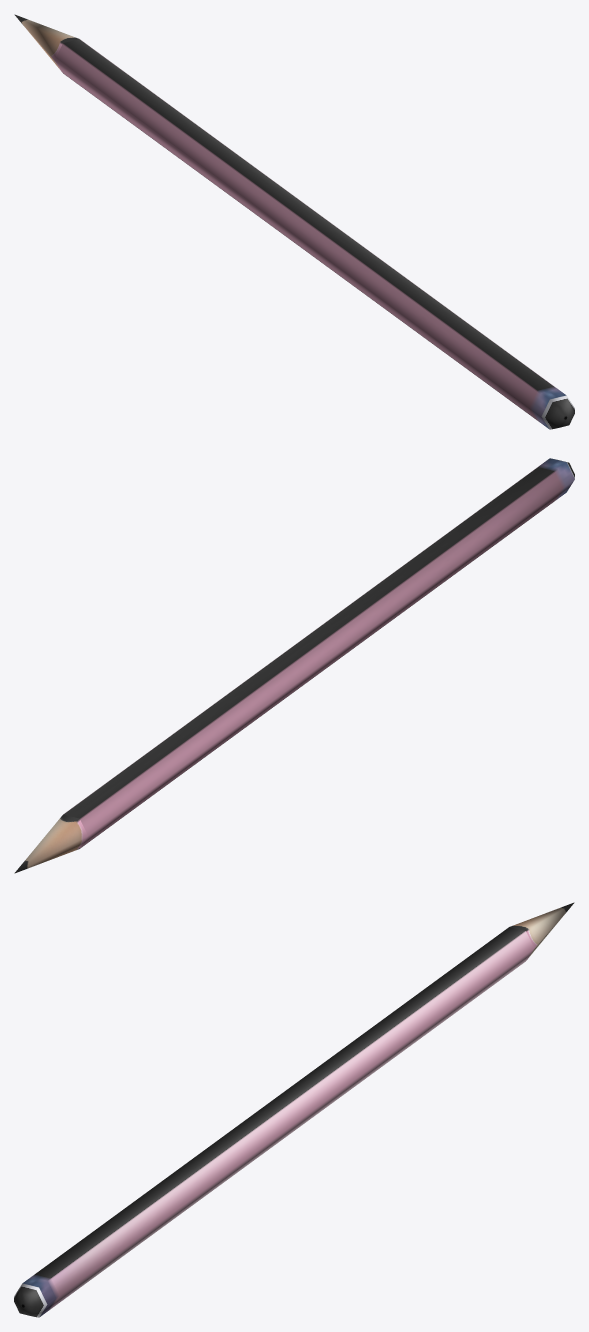
File: ShenMiRenJia_01_qianbi_01.FBX
The picture shows the model from 3 angles, top to bottom: view 1: azimuth 30°, elevation 25°; view 2: azimuth 150°, elevation 25°; view 3: azimuth 330°, elevation 25°; orthographic projection.
Parts seen in each view (by area): view 1: ShenMiRenJia_01_qianbi_01; view 2: ShenMiRenJia_01_qianbi_01; view 3: ShenMiRenJia_01_qianbi_01.
Part boxes in pixels (x1,y1,x2,y2): ShenMiRenJia_01_qianbi_01: (14, 14, 574, 429); ShenMiRenJia_01_qianbi_01: (14, 458, 574, 873); ShenMiRenJia_01_qianbi_01: (14, 902, 574, 1317).
Size of the model in its own units: 4.25 by 3.68 by 122.
